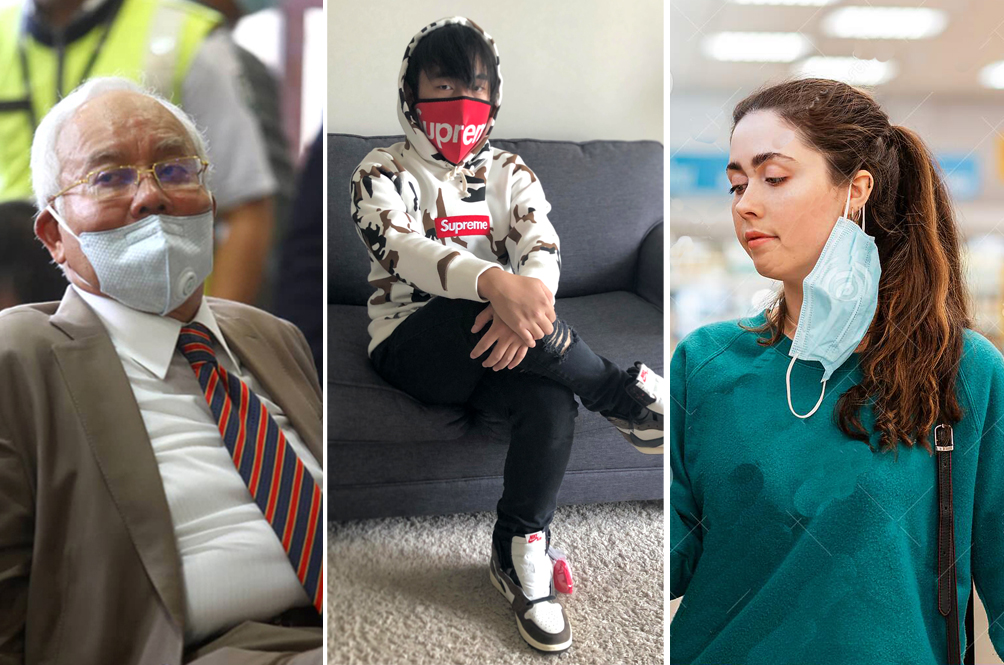with_incorrect_mask: (721, 121, 870, 320), (66, 120, 216, 316)
with_mask: (413, 58, 495, 154)
